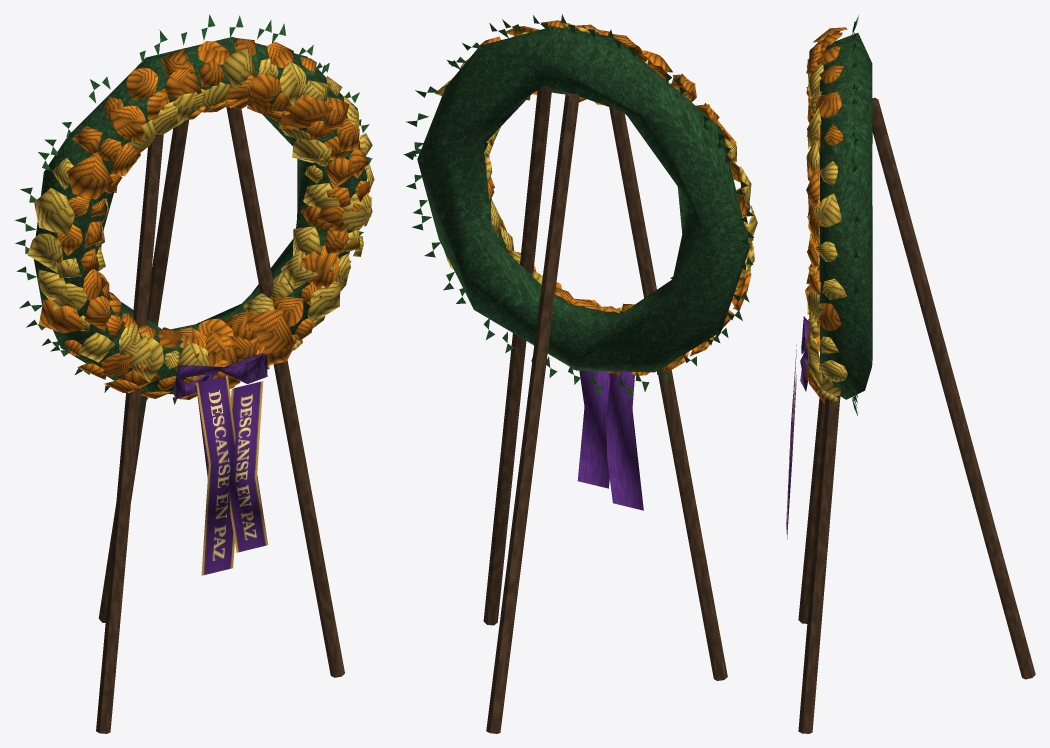
Rendered from corona_flores_lod.obj.
3 views of the same model, side by side, from view 1: azimuth 30°, elevation 25°; view 2: azimuth 150°, elevation 25°; view 3: azimuth 270°, elevation 25° (orthographic). The views are drawn at different scales.
Visible parts, largest first — view 1: Flores_Petalo_Naranja, Flores_Petalo_Amarillo, Base, Cylinder, Cylinder.001, Liston, Liston.001, Cylinder.002, Flores_Hoja_Verde_Oscuro, Mono; view 2: Base, Cylinder.002, Cylinder, Cylinder.001, Flores_Petalo_Naranja, Liston, Flores_Hoja_Verde_Oscuro, Liston.001, Flores_Petalo_Amarillo; view 3: Base, Cylinder.002, Flores_Petalo_Amarillo, Cylinder.001, Flores_Petalo_Naranja, Cylinder, Flores_Hoja_Verde_Oscuro, Mono.
Part boxes in pixels (<box>): Flores_Petalo_Naranja: <box>39,38,372,399</box>; Flores_Petalo_Amarillo: <box>27,48,374,382</box>; Base: <box>33,37,367,394</box>; Cylinder: <box>96,134,163,733</box>; Cylinder.001: <box>226,106,344,677</box>; Liston: <box>196,375,235,575</box>; Liston.001: <box>228,381,267,552</box>; Cylinder.002: <box>98,120,188,622</box>; Flores_Hoja_Verde_Oscuro: <box>15,14,372,406</box>; Mono: <box>173,353,267,398</box>; Base: <box>417,26,749,372</box>; Cylinder.002: <box>486,93,579,733</box>; Cylinder: <box>609,107,727,680</box>; Cylinder.001: <box>483,86,551,625</box>; Flores_Petalo_Naranja: <box>479,20,751,375</box>; Liston: <box>606,371,643,510</box>; Flores_Hoja_Verde_Oscuro: <box>403,14,753,398</box>; Liston.001: <box>577,370,610,488</box>; Flores_Petalo_Amarillo: <box>435,20,757,311</box>; Base: <box>819,33,872,399</box>; Cylinder.002: <box>872,97,1035,679</box>; Flores_Petalo_Amarillo: <box>805,59,847,404</box>; Cylinder.001: <box>798,396,840,733</box>; Flores_Petalo_Naranja: <box>806,27,847,404</box>; Cylinder: <box>798,398,825,623</box>; Flores_Hoja_Verde_Oscuro: <box>851,15,859,415</box>; Mono: <box>800,316,809,391</box>.
Size of the model in its own units: 0.7935 by 1.41 by 0.4916.
8 materials, 8 textured.
